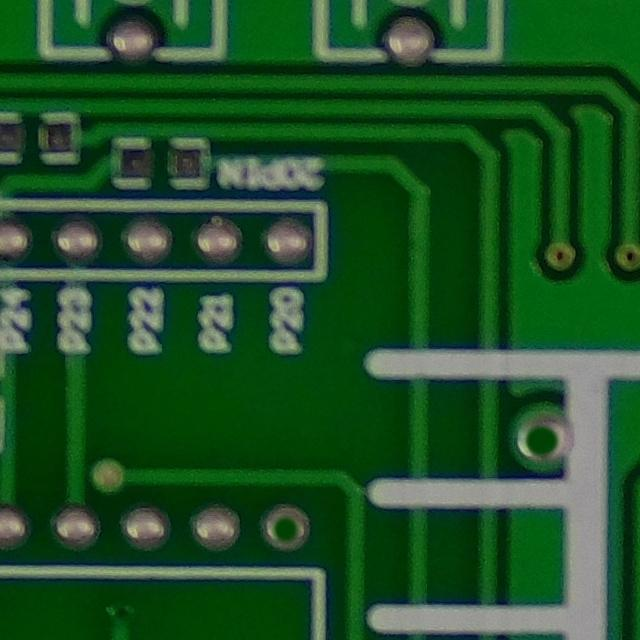missing_hole: (508, 401, 580, 480), (256, 496, 321, 558)
